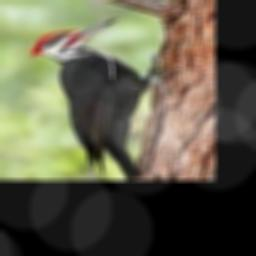Woodpecker: (30, 16, 177, 179)
